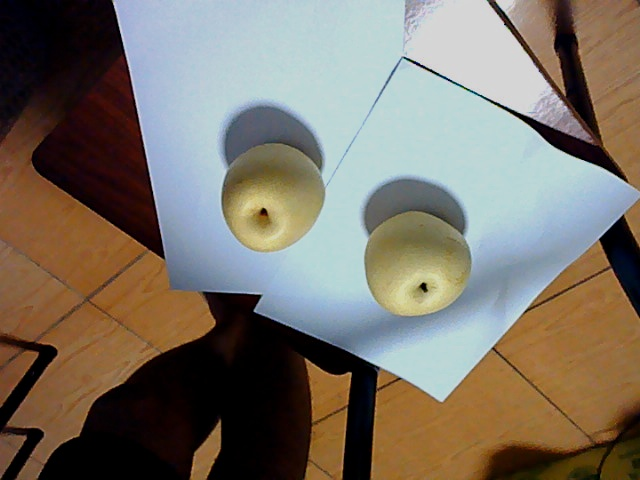pear: (214, 141, 325, 250), (361, 215, 471, 315)
